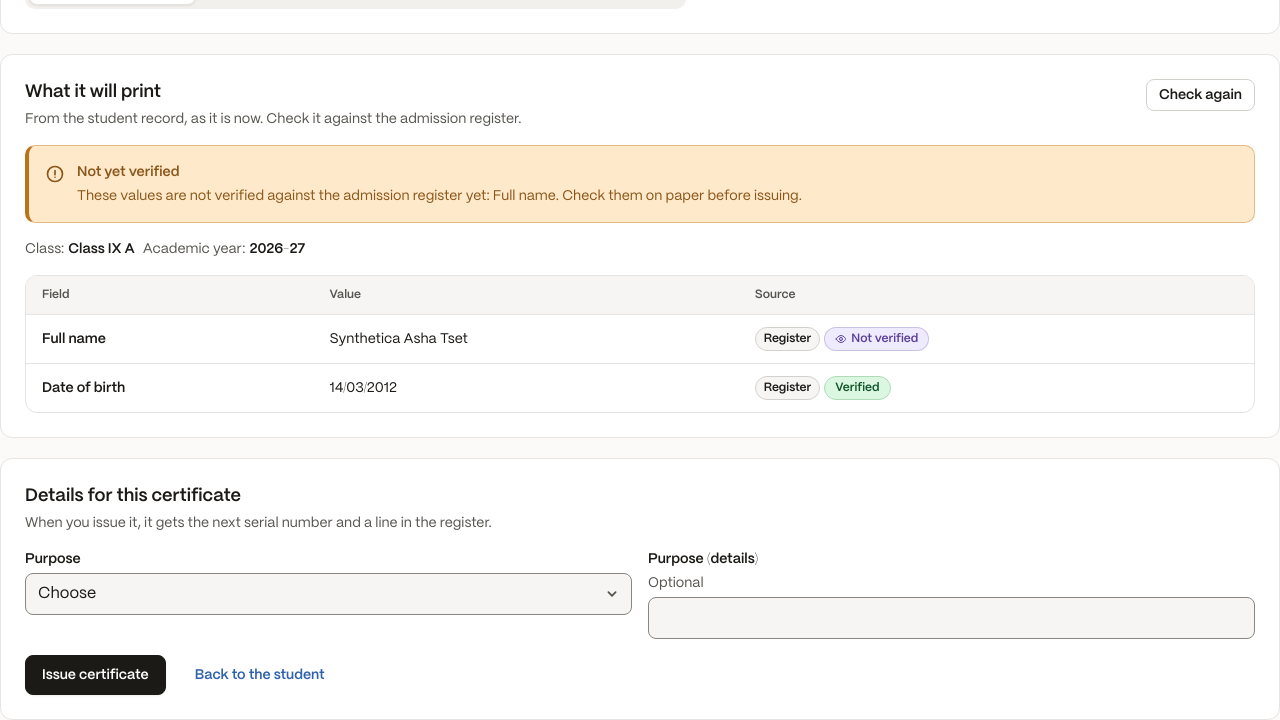
Test: issue a certificate (US-1101, US-1102, FR-CERT-002) › shows why the API refused (409 certificate_blocked)
This screenshot has width=1280, height=720.
(page scrolled)
Check: the text "14/03/2012" is shown, box [329,381,397,395]
Step 1. Select "Bus pass" in the dropdown labelled "Purpose" → (328, 594), box [25,573,632,615]
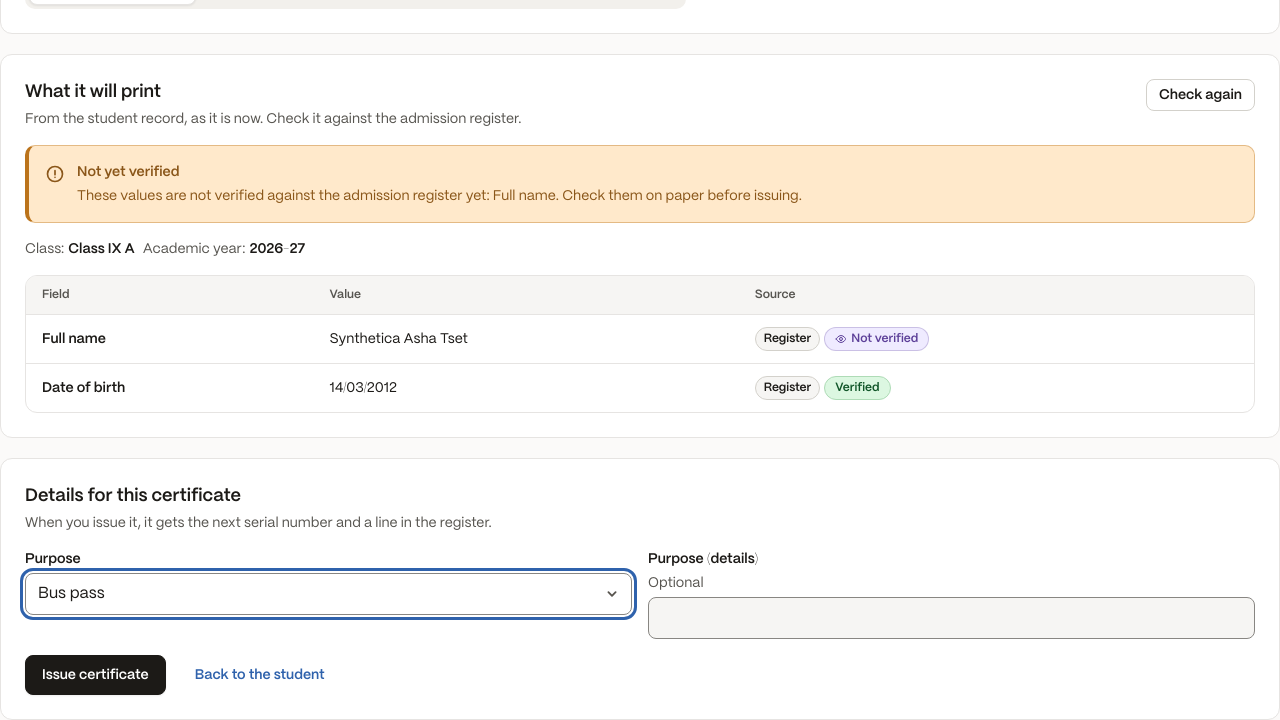
Step 2. Click the button "Issue certificate" → click(95, 675), box [25,655,166,695]
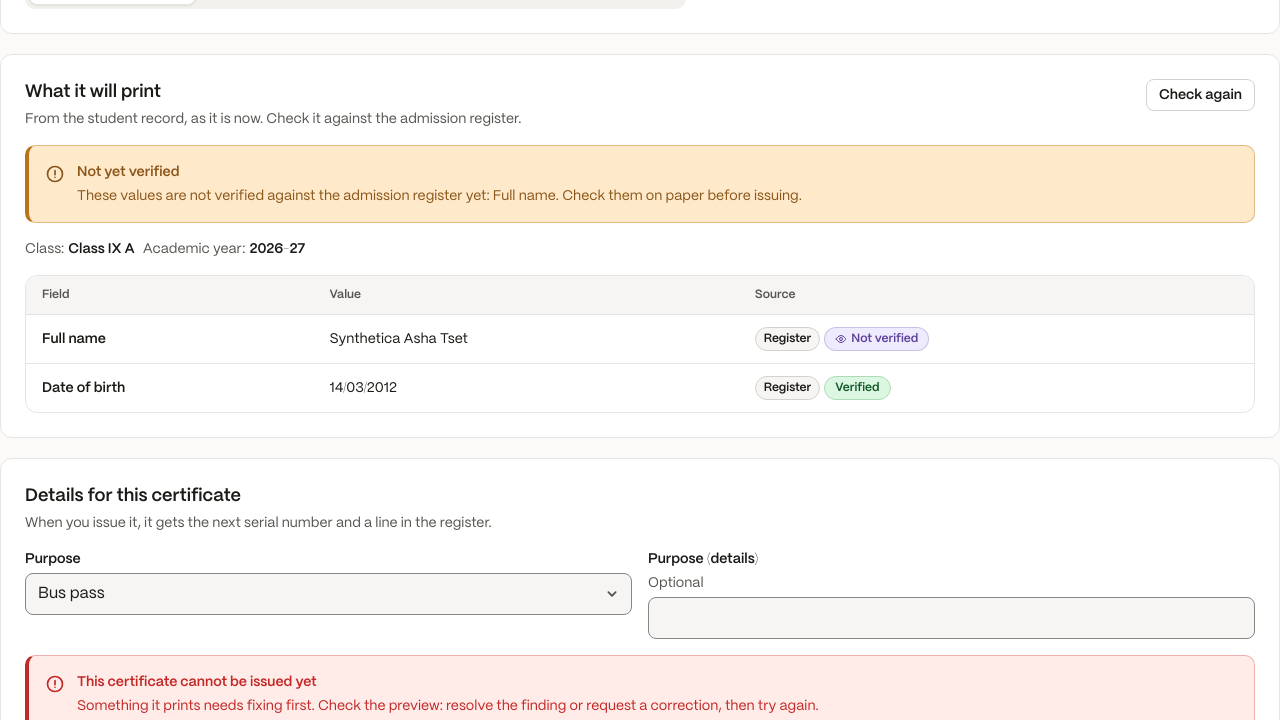
Check: the text "This certificate cannot be issued yet" is shown, box [77,675,317,689]
